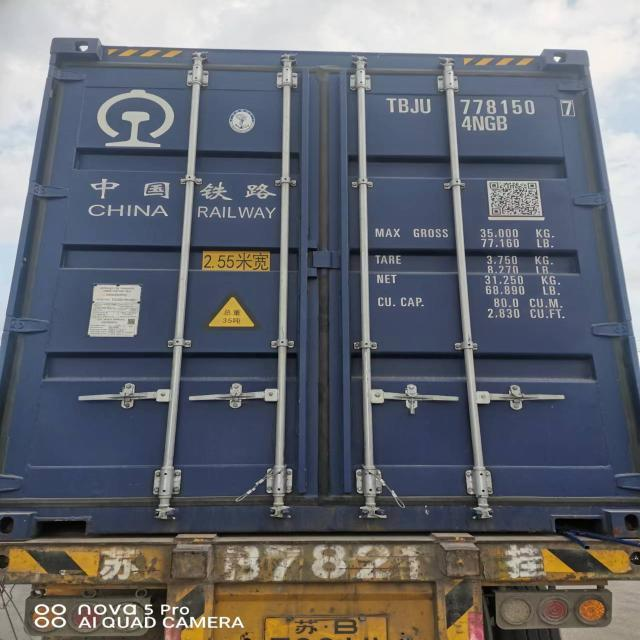ISO: (456, 116, 519, 136)
container_number: (384, 96, 584, 116)
